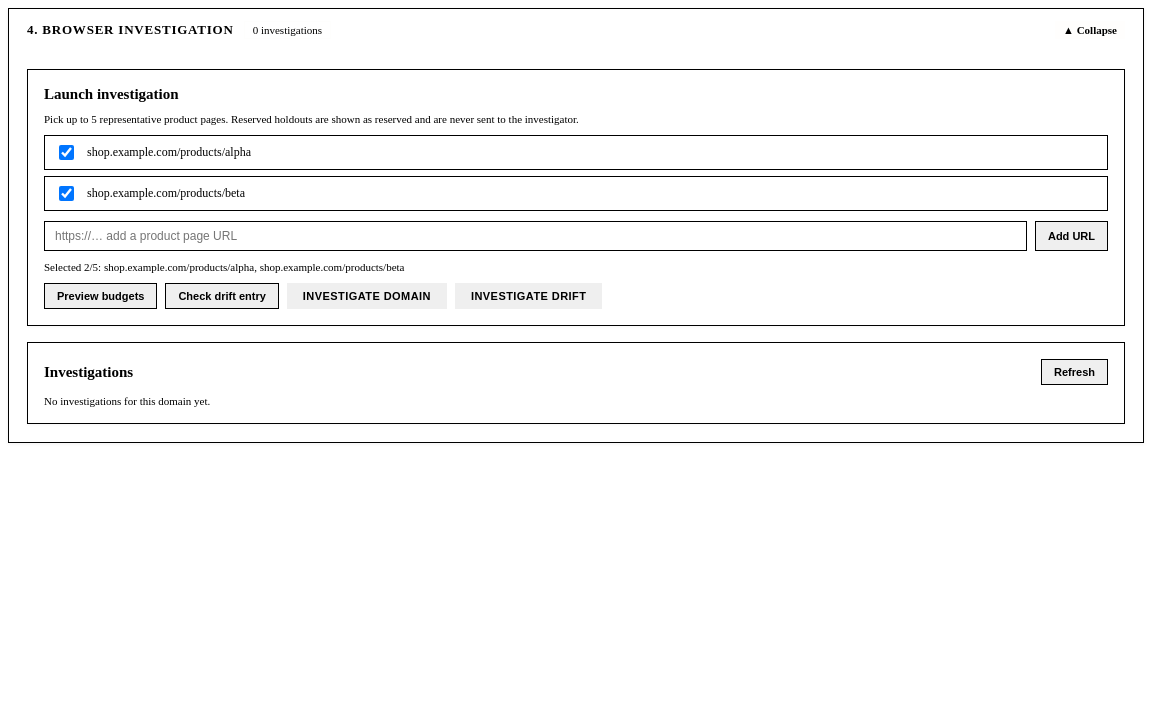
Scenario: #245 live watch and cancel for running investigations › launch selects the queued investigation immediately with cancel available
This screenshot has width=1152, height=720.
Click the button "Investigate Domain": [367, 296] box [287,283,447,309]
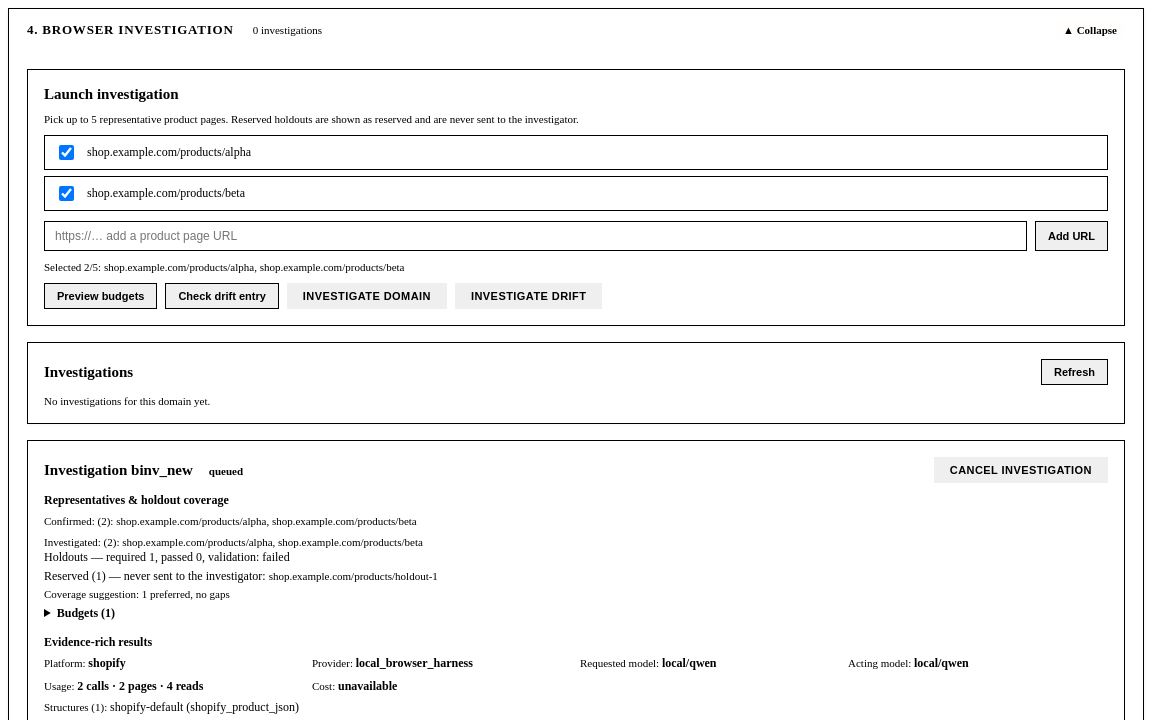
expect the text "binv_new" is shown: met, box [131,462,193,478]
expect the text "queued" is shown: met, box [209,464,243,476]
expect the text "Cancel investigation" is shown: met, box [934,457,1108,483]
